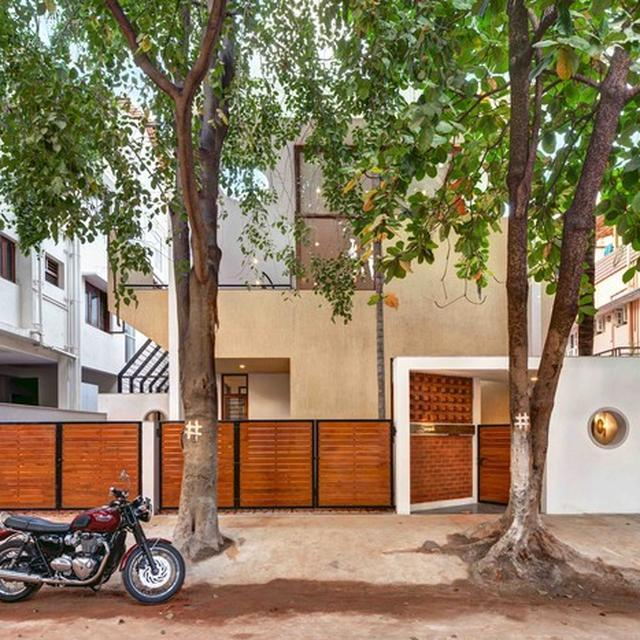building: (218, 109, 516, 518)
